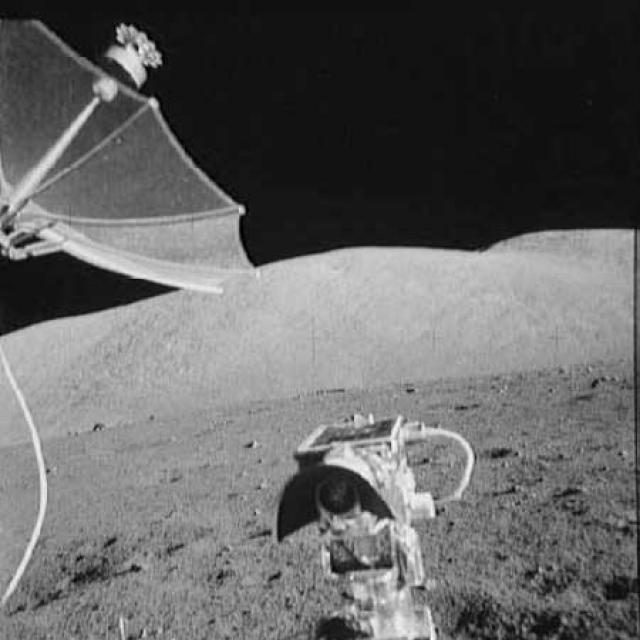artifact: (0, 13, 271, 296), (273, 412, 479, 638), (0, 349, 80, 624)
crater: (0, 542, 161, 604), (484, 445, 516, 464)
